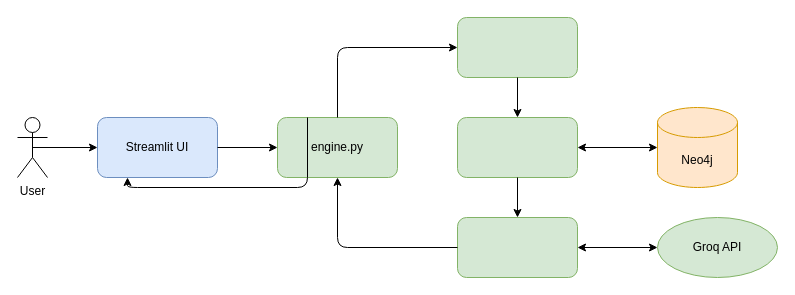
Image size: 795x295. Some labels were removed from this diagram. The centre of each missing label's shape, as x and y in pixels:
"graph_retriever" goes at (517,147).
"llm_ranker" goes at (517,247).
"query_parser" goes at (517,47).
